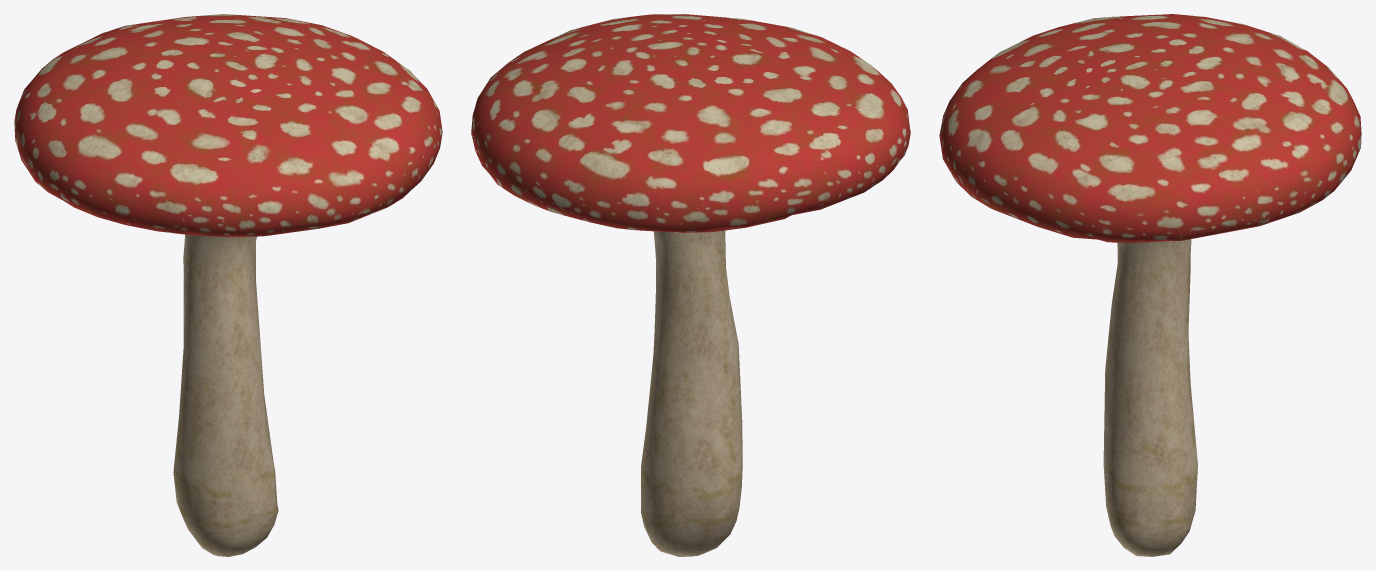
The picture shows the model from 3 angles, left to right: view 1: azimuth 30°, elevation 25°; view 2: azimuth 150°, elevation 25°; view 3: azimuth 270°, elevation 25°; orthographic projection. The views are drawn at different scales.
Visible parts, largest first — view 1: mushroom_02; view 2: mushroom_02; view 3: mushroom_02.
Boxes of the visible parts, x1=… form: mushroom_02: x1=14, y1=14, x2=442, y2=556; mushroom_02: x1=471, y1=14, x2=910, y2=556; mushroom_02: x1=939, y1=14, x2=1361, y2=556.
Bounding box in the file's own units: 79.7 × 99.7 × 78.17.
